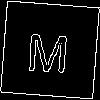M: (25, 24, 71, 74)
